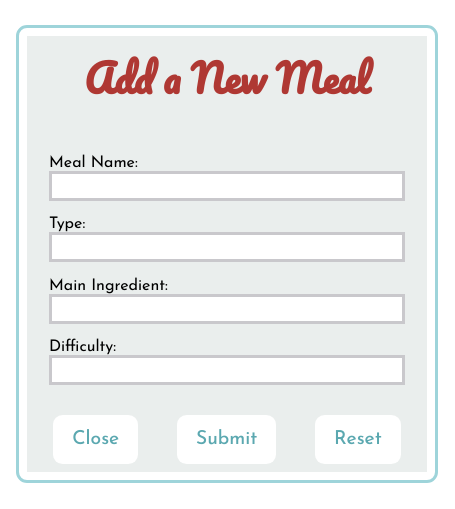
Test case: AddMealForm › renders success message and text when user inputs a unique meal and submits the form
Type "Pasta" into the field labelled "Meal Name:" at (227, 186), box [49,171,405,201]
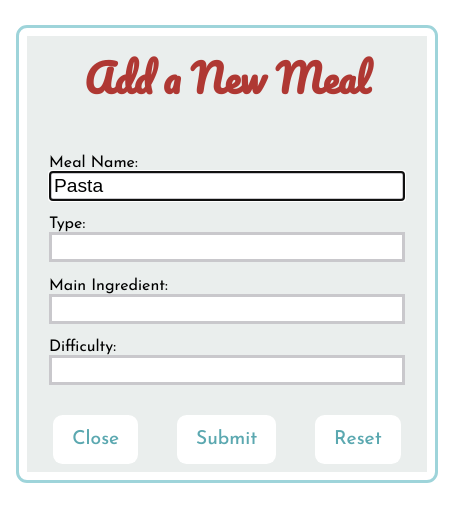
Type "Italian" into the field labelled "Type:" at (227, 247), box [49,232,405,262]
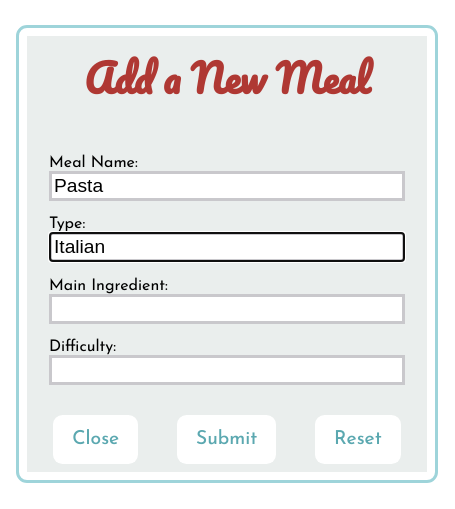
Type "Tomato" into the field labelled "Main Ingredient:" at (227, 309), box [49,294,405,324]
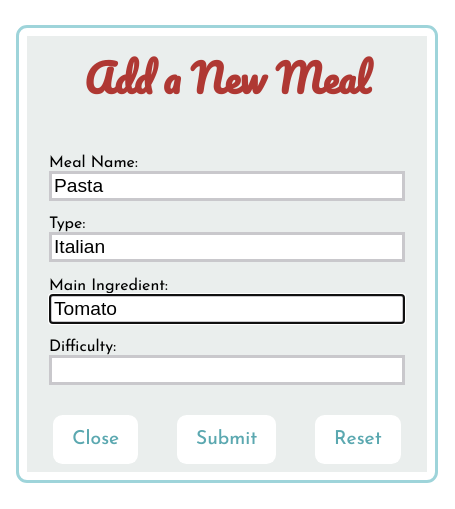
Type "Easy" into the field labelled "Difficulty:" at (227, 370), box [49,355,405,385]
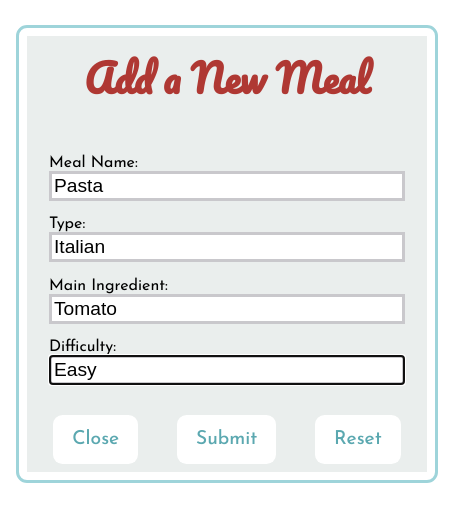
Click the button "Submit" at (227, 439), box [177,415,276,464]
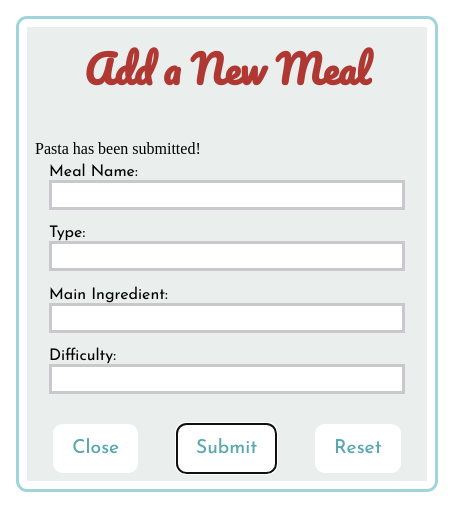
Expected: the text with test id "success-message-element" reads "Pasta has been submitted!", [35,140,201,157]
